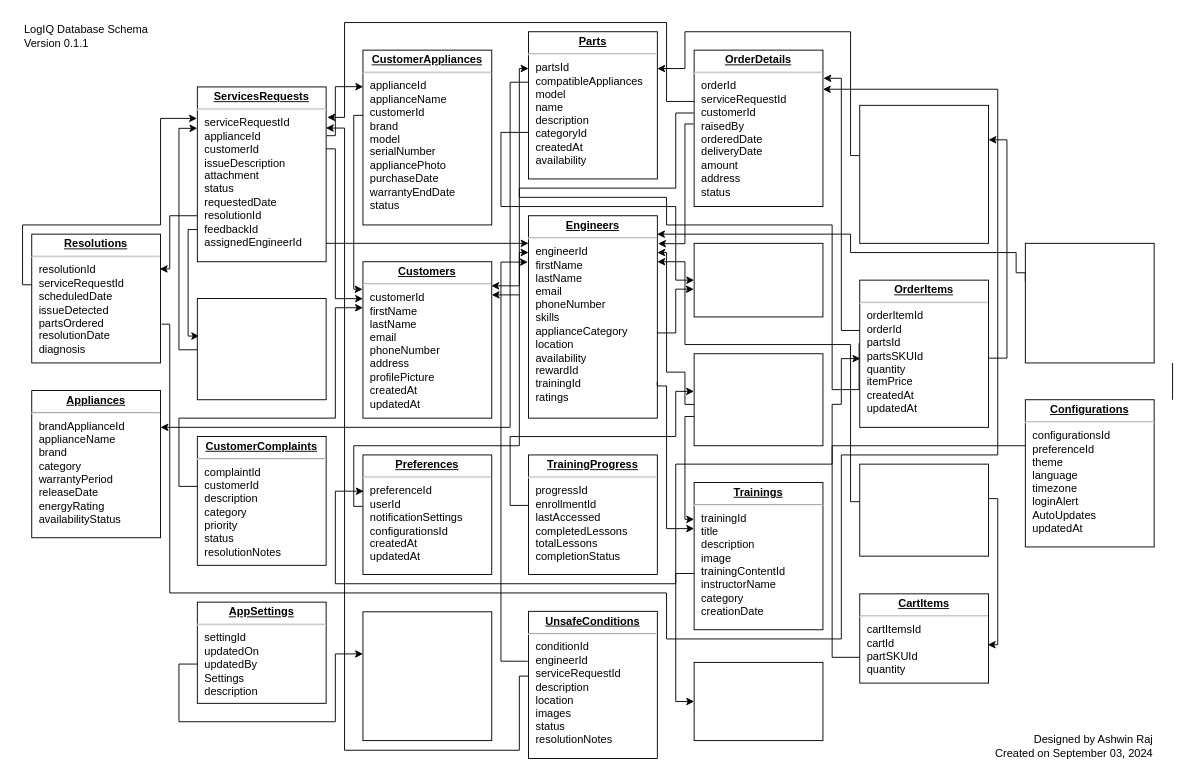
Image size: 1190x781. Some labels were removed from this diagram. Here are the shapes that lost their labels. From the top down, the centre of each, then its label:
At pixel 924 173: "PartsSKU partsSKUId partsId size color unitPrice quantity createdAt".
At pixel 758 279: "Category categoryId name createdAt".
At pixel 1089 302: "ChatbotInteractions engineerId sessionId query response queriedAt respondedAt".
At pixel 261 349: "CustomerFeedback feedbackId serviceRequestId rating feedback createdOn".
At pixel 758 399: "Enrollments enrollmentId engineerId trainingId enrollmentDate".
At pixel 924 509: "Cart cartId engineerId createdOn updatedOn".
At pixel 427 676: "AdminUsers adminId firstName lastName email phoneNumber role passwordHash".
At pixel 758 701: "TrainingContent trainingContentId totalLessons content".
